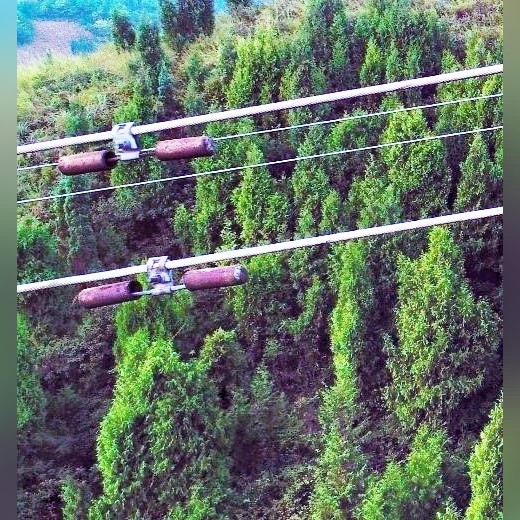Shockproof hammer: (73, 243, 252, 317), (50, 108, 219, 179)
